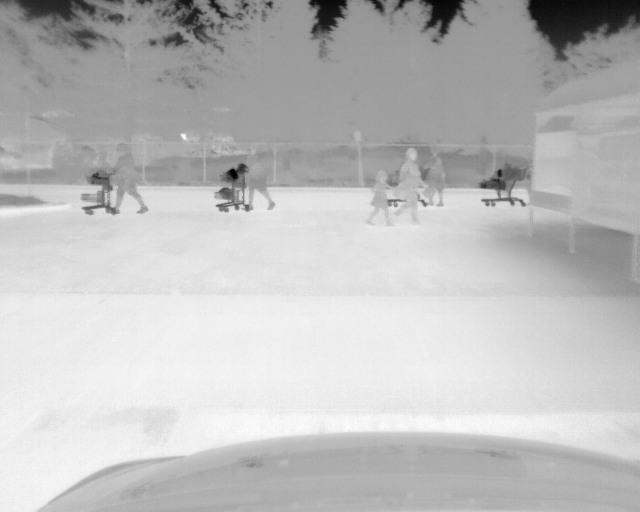people: (108, 142, 148, 215), (394, 147, 422, 225), (244, 149, 276, 213), (365, 168, 393, 224), (427, 147, 446, 208)
